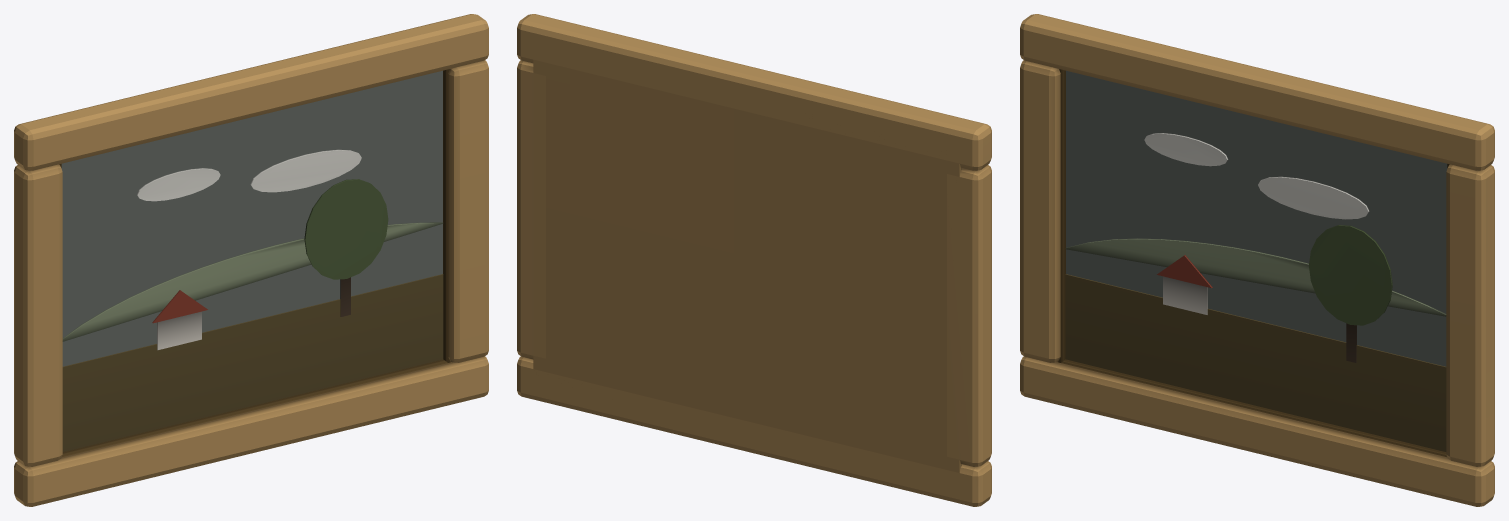
The model's file is paintingClassic.glb.
The picture shows the model from 3 angles, left to right: view 1: azimuth 30°, elevation 25°; view 2: azimuth 150°, elevation 25°; view 3: azimuth 330°, elevation 25°; orthographic projection.
Visible parts, largest first — view 1: paintingClassic; view 2: paintingClassic; view 3: paintingClassic.
Boxes of the visible parts, x1,y1,x2,y2 form: paintingClassic: (14, 14, 488, 506); paintingClassic: (517, 14, 991, 506); paintingClassic: (1020, 14, 1494, 506).
Bounding box in the file's own units: 0.84 × 0.65 × 0.05.
